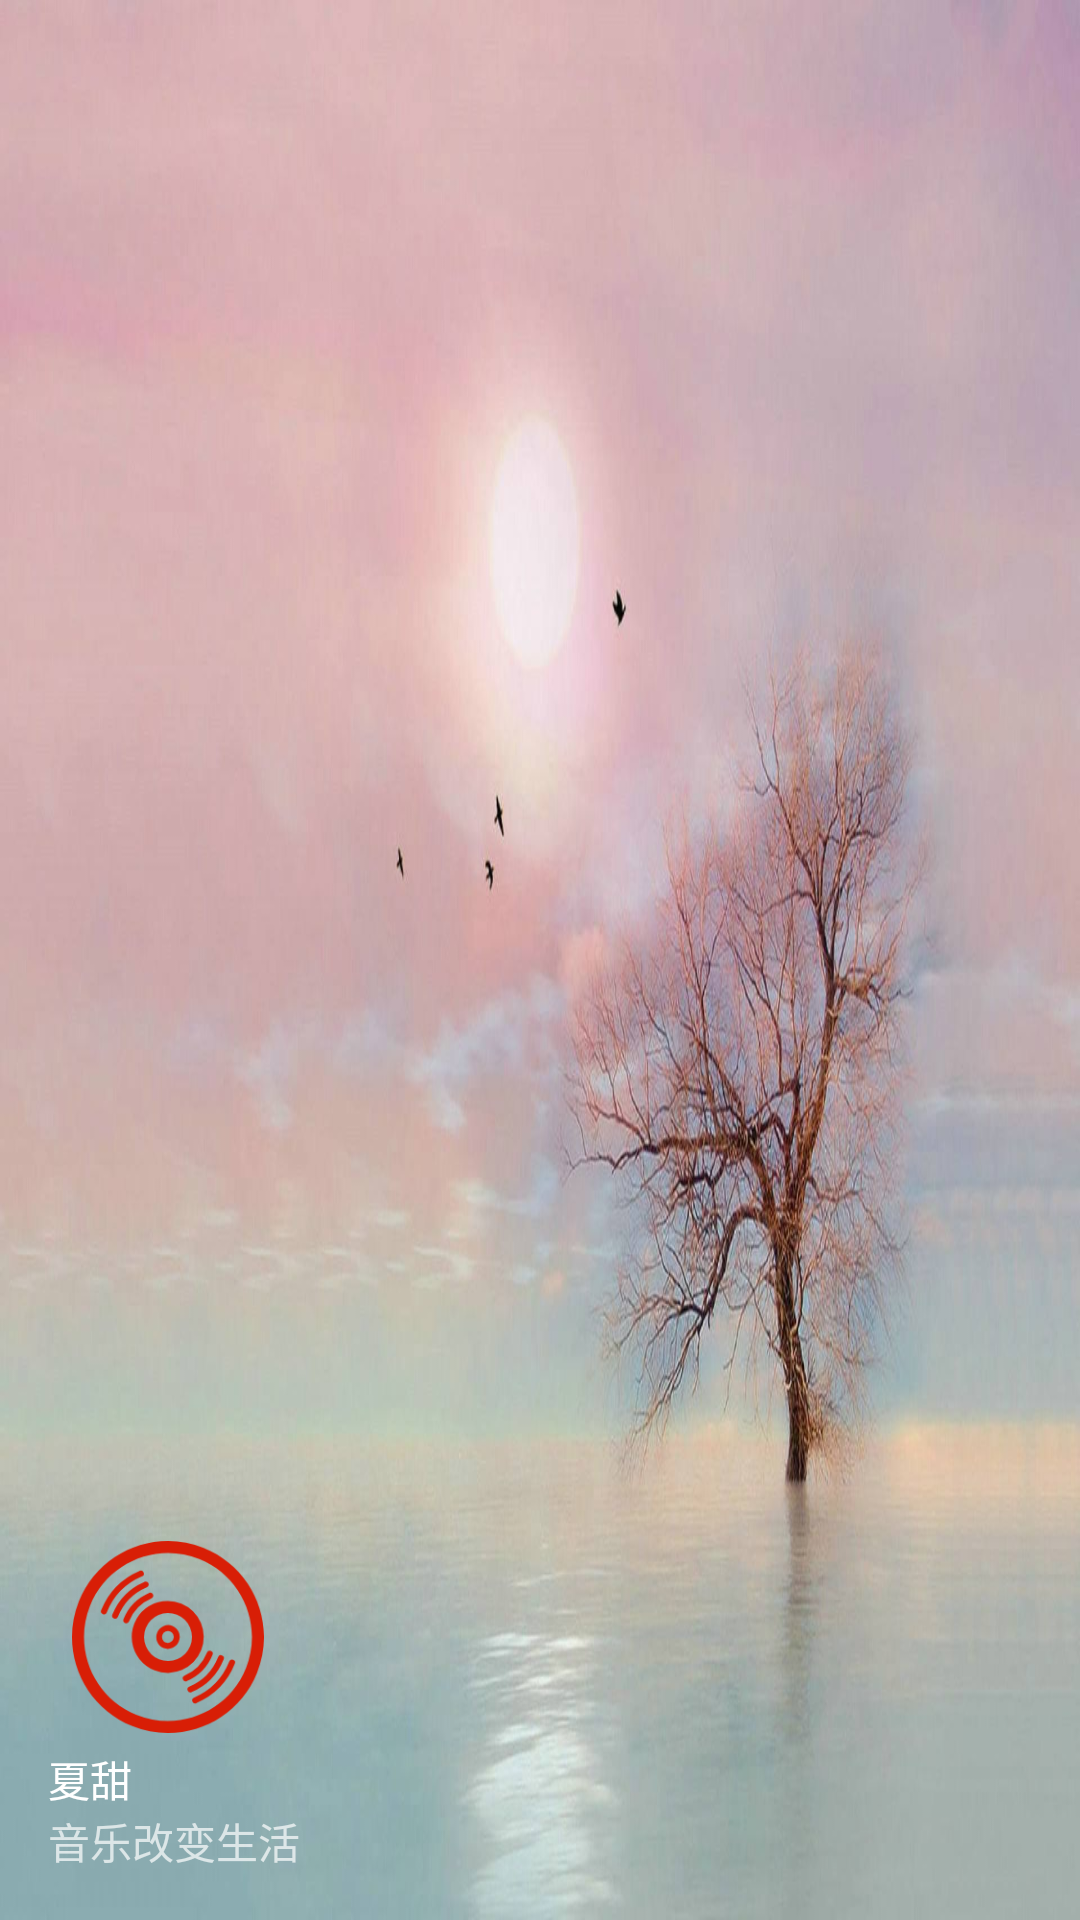

Where to tap for icons on this 1080 × 1920 app screen, as (x,y):
music: (168,1613)
